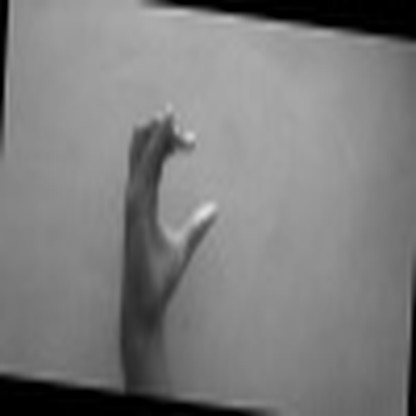c: (115, 98, 228, 297)
